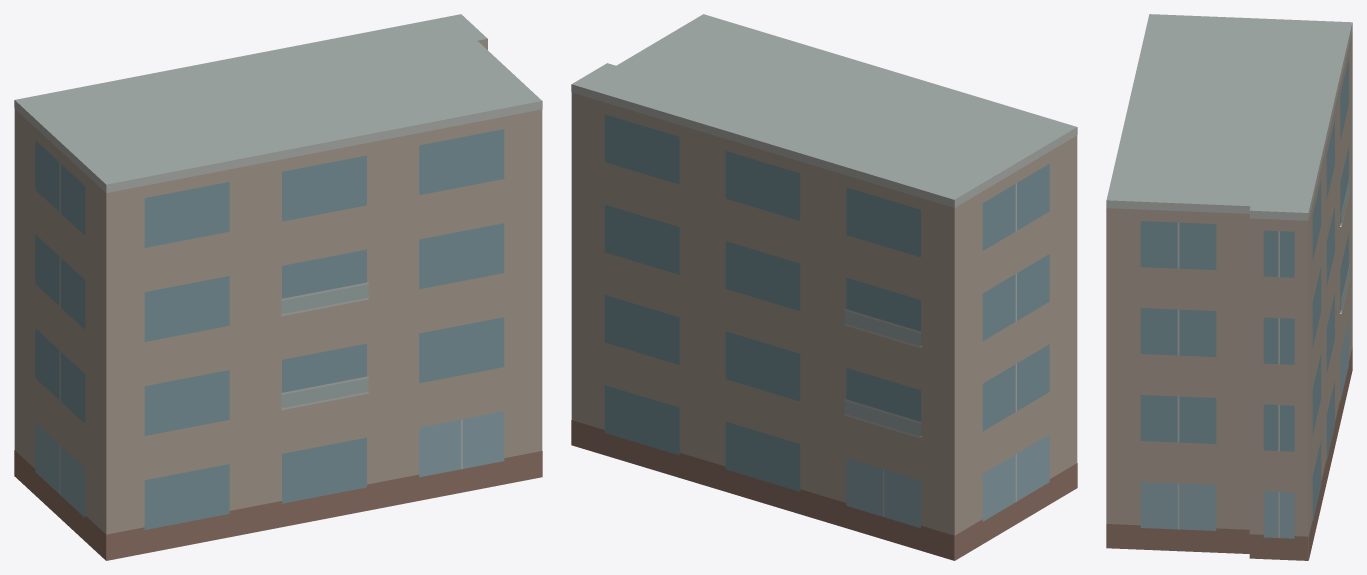
Rendered from survey-upis-32593674.glb.
3 renders of one model, left to right at view 1: azimuth 30°, elevation 25°; view 2: azimuth 150°, elevation 25°; view 3: azimuth 270°, elevation 25°, orthographic. The views are drawn at different scales.
Visible parts, largest first — view 1: survey-upis-32593674.tmp; view 2: survey-upis-32593674.tmp; view 3: survey-upis-32593674.tmp.
Part boxes in pixels (<box>): survey-upis-32593674.tmp: <box>14,14,542,560</box>; survey-upis-32593674.tmp: <box>571,14,1077,560</box>; survey-upis-32593674.tmp: <box>1106,14,1352,560</box>.
Bounding box in the file's own units: 13.39 × 10.9 × 7.
